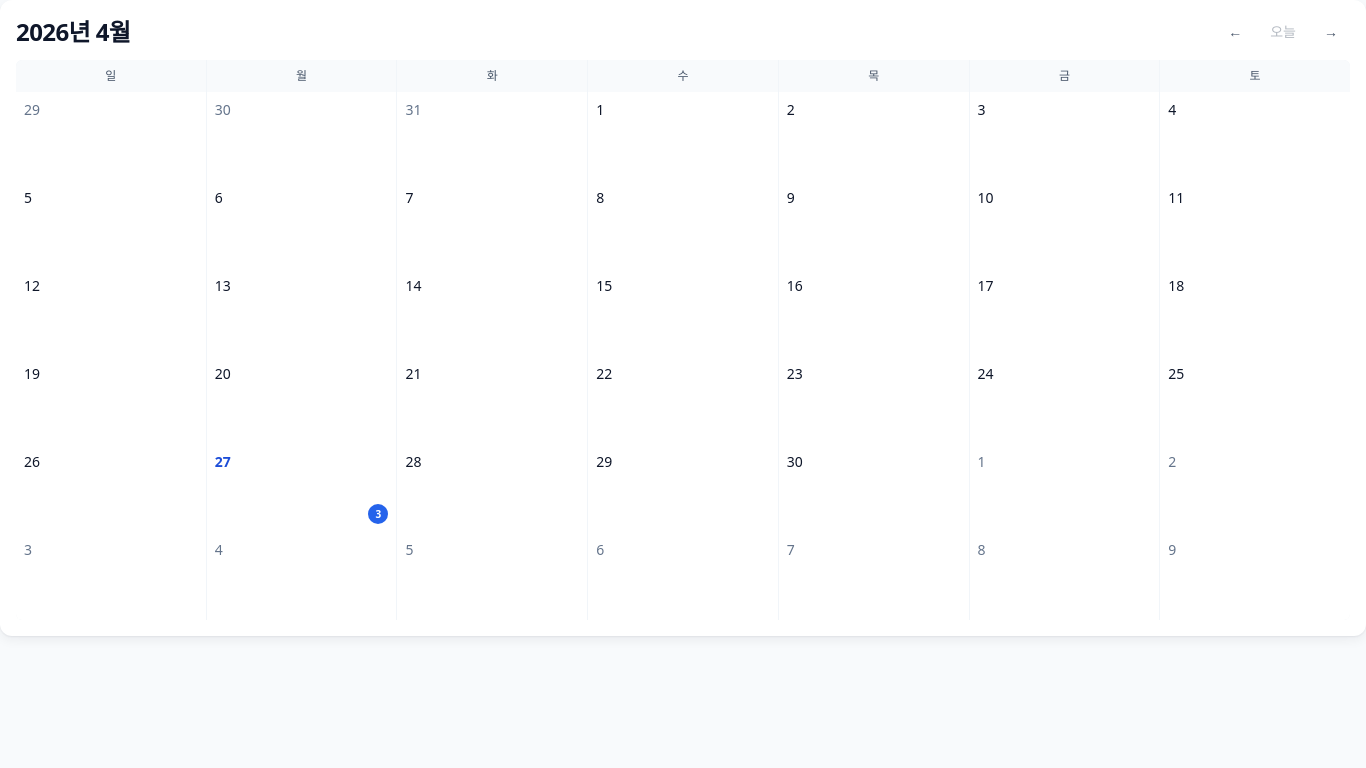
Scenario: Remove + undo flow (#13) › 되돌리기 → 같은 인덱스로 복원 (AC-2)
Click the cell labelled "27 3": {"x": 302, "y": 488} [207, 444, 396, 532]
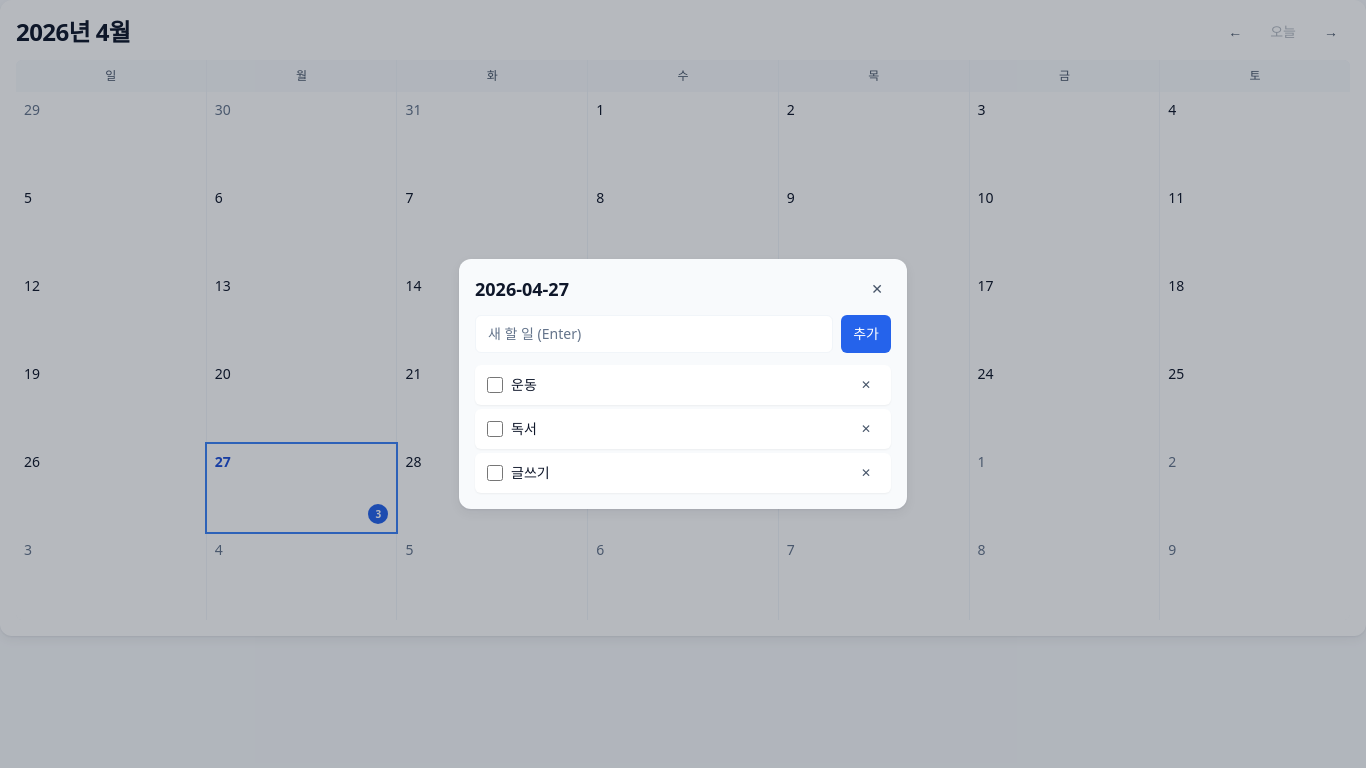
Click the button with test id "todo-remove" in the row of "독서": {"x": 866, "y": 429} [853, 417, 879, 441]
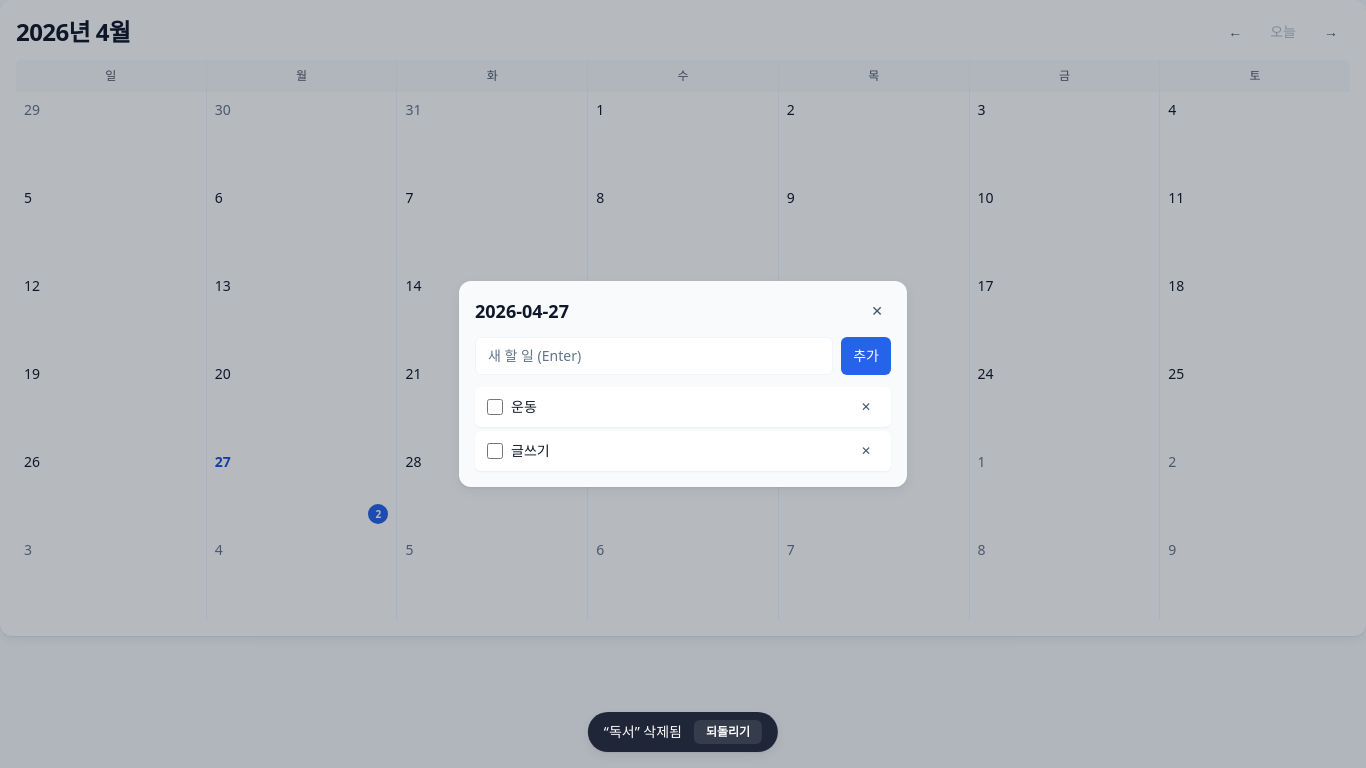
Result: the number of list items with test id "todo-item" is 2 at [475, 387, 891, 427]; [475, 431, 891, 471]
Click the button with test id "undo-button": {"x": 728, "y": 732} [694, 720, 762, 744]
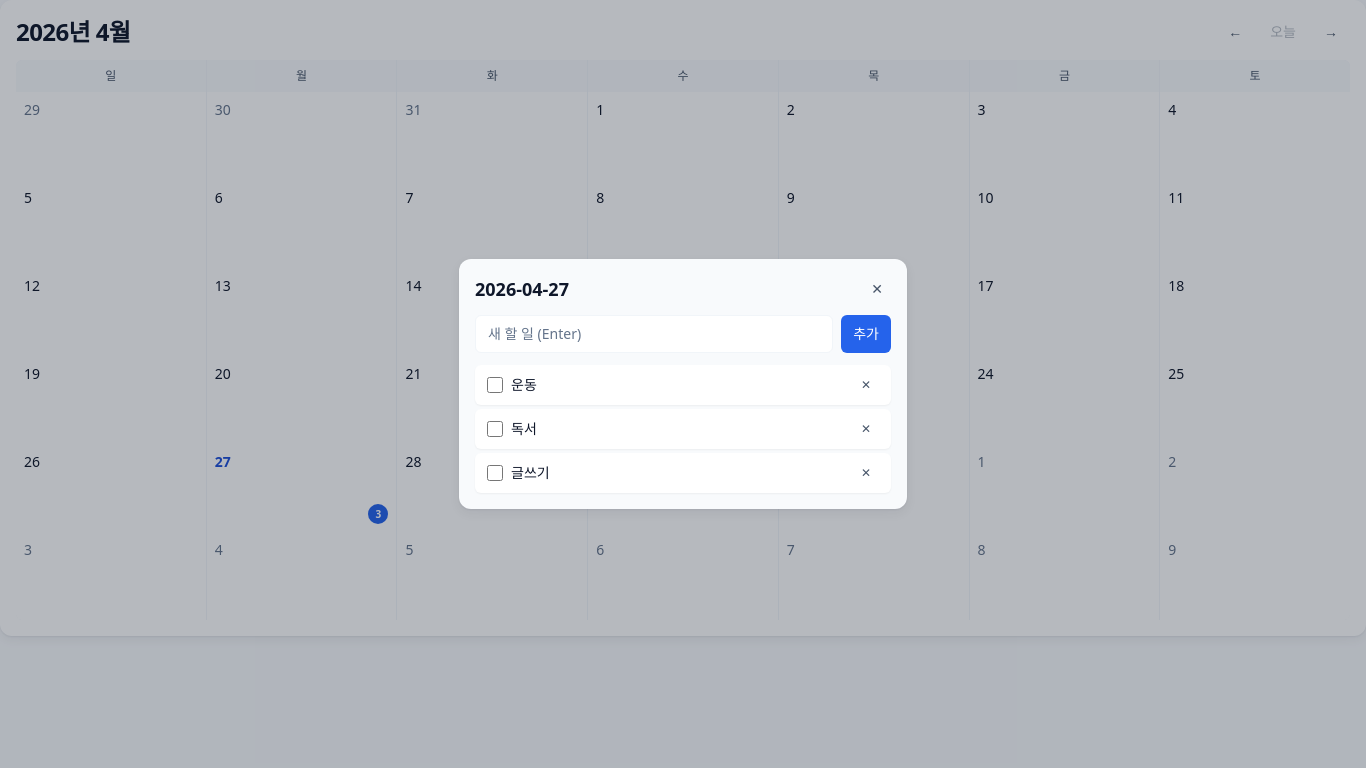
Result: the number of list items with test id "todo-item" is 3 at [475, 365, 891, 405]; [475, 409, 891, 449]; [475, 453, 891, 493]
